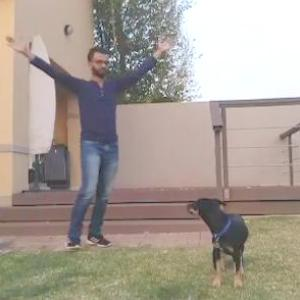takeoff: (1, 40, 175, 261)
